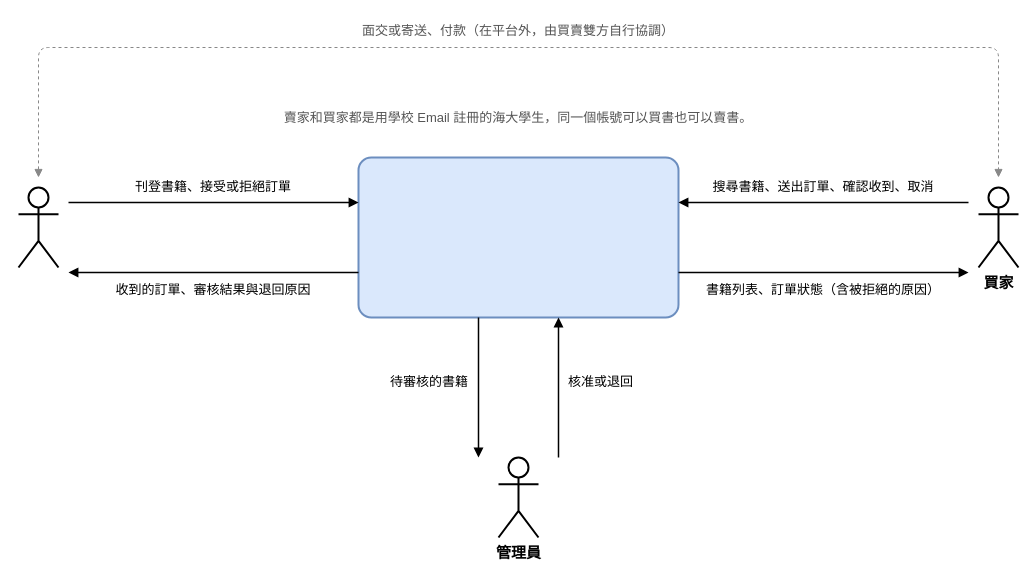
The diagram is 1036 pixels wide and 579 high, and some of its shapes have lost their labels. Each missing label, with the centre of its shape:
海大二手書交易平台 書籍列表與搜尋・刊登書籍 購物車與訂單・審核書籍・帳號: (518,237)
賣家: (38,227)
